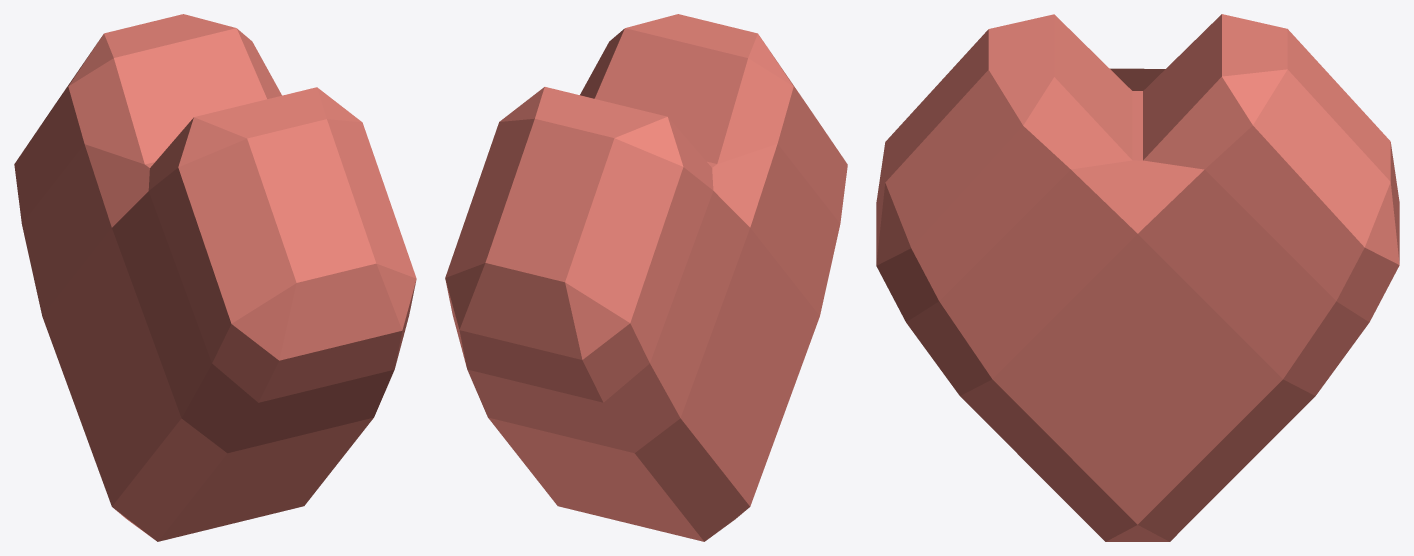
Rendered from heart.fbx.
3 renders of one model, left to right at view 1: azimuth 30°, elevation 25°; view 2: azimuth 150°, elevation 25°; view 3: azimuth 270°, elevation 25°, orthographic. The views are drawn at different scales.
Parts seen in each view (by area): view 1: Cube; view 2: Cube; view 3: Cube.
Part boxes in pixels (x1,y1,x2,y2): Cube: [14, 14, 416, 541]; Cube: [445, 14, 847, 541]; Cube: [876, 14, 1399, 541].
Size of the model in its own units: 152 by 309 by 319.
